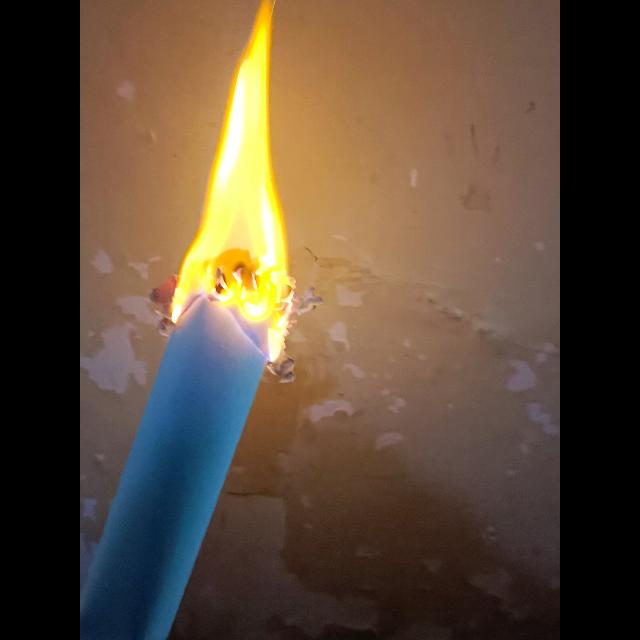fire: (150, 0, 320, 382)
